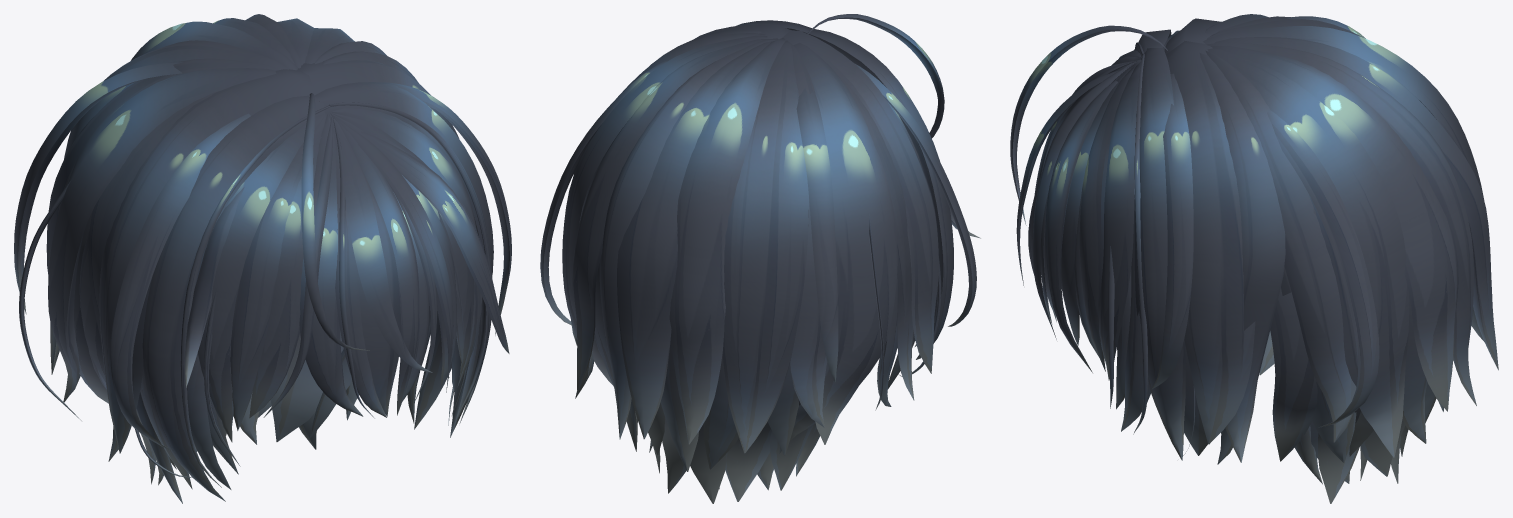
The model's file is vroid_hair_sZ.glb.
3 renders of one model, left to right at view 1: azimuth 30°, elevation 25°; view 2: azimuth 150°, elevation 25°; view 3: azimuth 270°, elevation 25°, orthographic. The views are drawn at different scales.
Visible parts, largest first — view 1: part; view 2: part; view 3: part.
Part boxes in pixels (x1=…): part: x1=14, y1=14, x2=511, y2=503; part: x1=540, y1=14, x2=980, y2=503; part: x1=1010, y1=14, x2=1498, y2=503.
Bounding box in the file's own units: 0.2186 × 0.2429 × 0.2461.
1 material, 1 textured.
